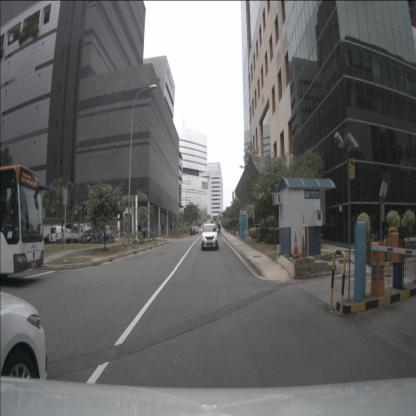human-pedestrian-adult: (217, 221, 222, 237)
movable_object-trafficcone: (292, 233, 300, 259), (301, 235, 307, 259)
vehicle-bus-rigid: (0, 164, 44, 285)
vehicle-car: (0, 290, 48, 416), (201, 223, 218, 251), (79, 229, 99, 245), (96, 227, 114, 244), (50, 226, 68, 243), (43, 233, 58, 244), (190, 227, 196, 235), (193, 226, 198, 233)
vehicle-truck: (60, 223, 84, 244)
